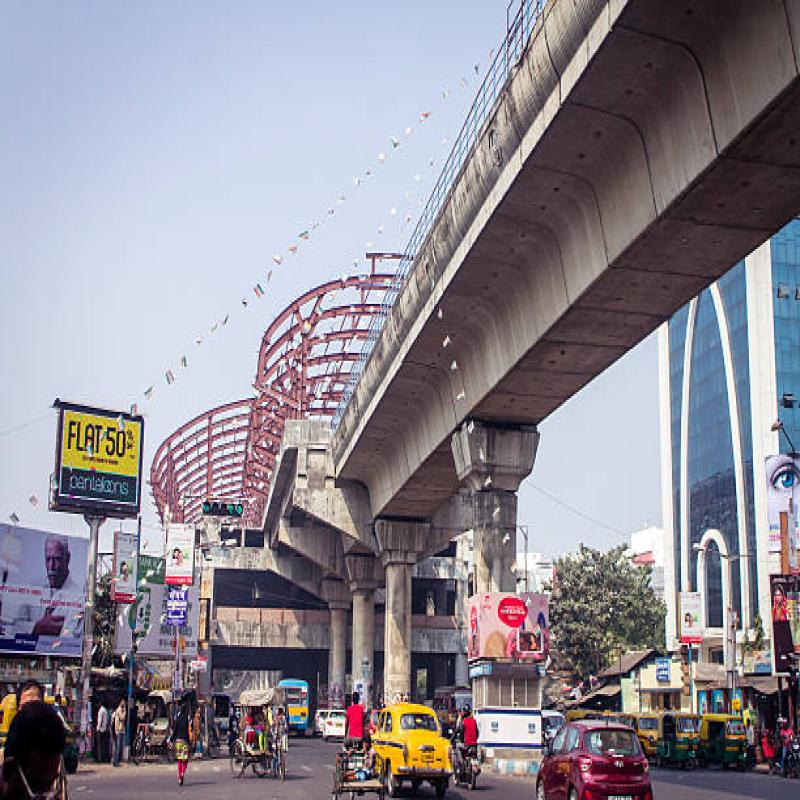auto: (696, 706, 757, 775)
car: (534, 714, 654, 800), (374, 690, 455, 790)
